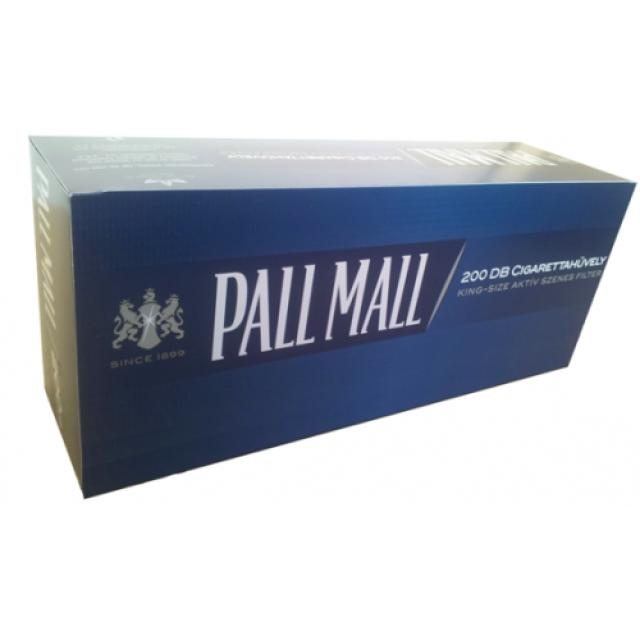pallmall: (20, 119, 640, 503)
